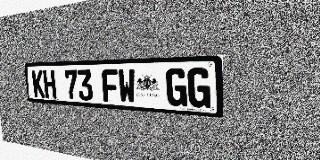3: (77, 69, 93, 101)
7: (64, 70, 79, 100)
F: (102, 69, 119, 103)
G: (187, 68, 211, 108), (166, 68, 187, 107)
H: (43, 70, 57, 99)
K: (32, 70, 45, 98)
W: (118, 69, 136, 104)
